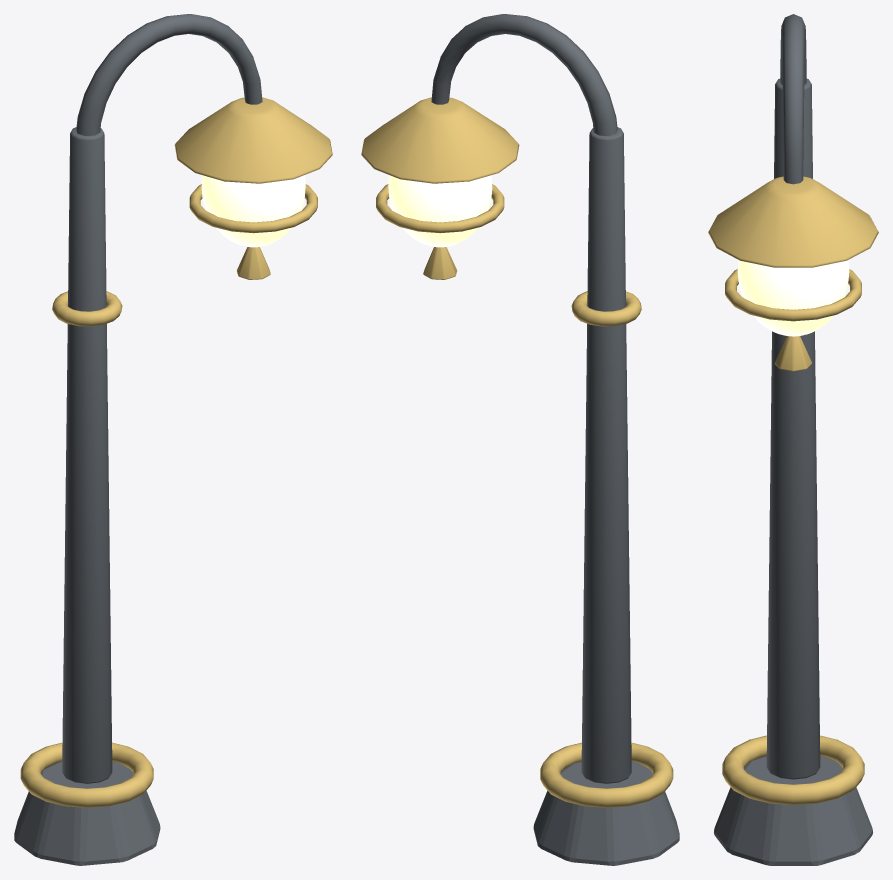
File: pendant_lamp_post.glb
3 views of the same model, side by side, from view 1: azimuth 30°, elevation 25°; view 2: azimuth 150°, elevation 25°; view 3: azimuth 270°, elevation 25° (orthographic). The views are drawn at different scales.
Parts seen in each view (by area): view 1: Base, BaseRing, LanternGlobe; view 2: Base, BaseRing, LanternGlobe; view 3: Base, BaseRing, LanternGlobe.
Boxes of the visible parts, x1,y1,x2,y2 form: Base: [14, 14, 262, 865]; BaseRing: [20, 97, 332, 807]; LanternGlobe: [201, 175, 305, 247]; Base: [431, 14, 679, 865]; BaseRing: [361, 97, 673, 807]; LanternGlobe: [388, 175, 492, 247]; Base: [714, 14, 872, 865]; BaseRing: [708, 176, 878, 805]; LanternGlobe: [737, 260, 849, 336].
Bounding box in the file's own units: 1.49 × 3.86 × 0.6989.
